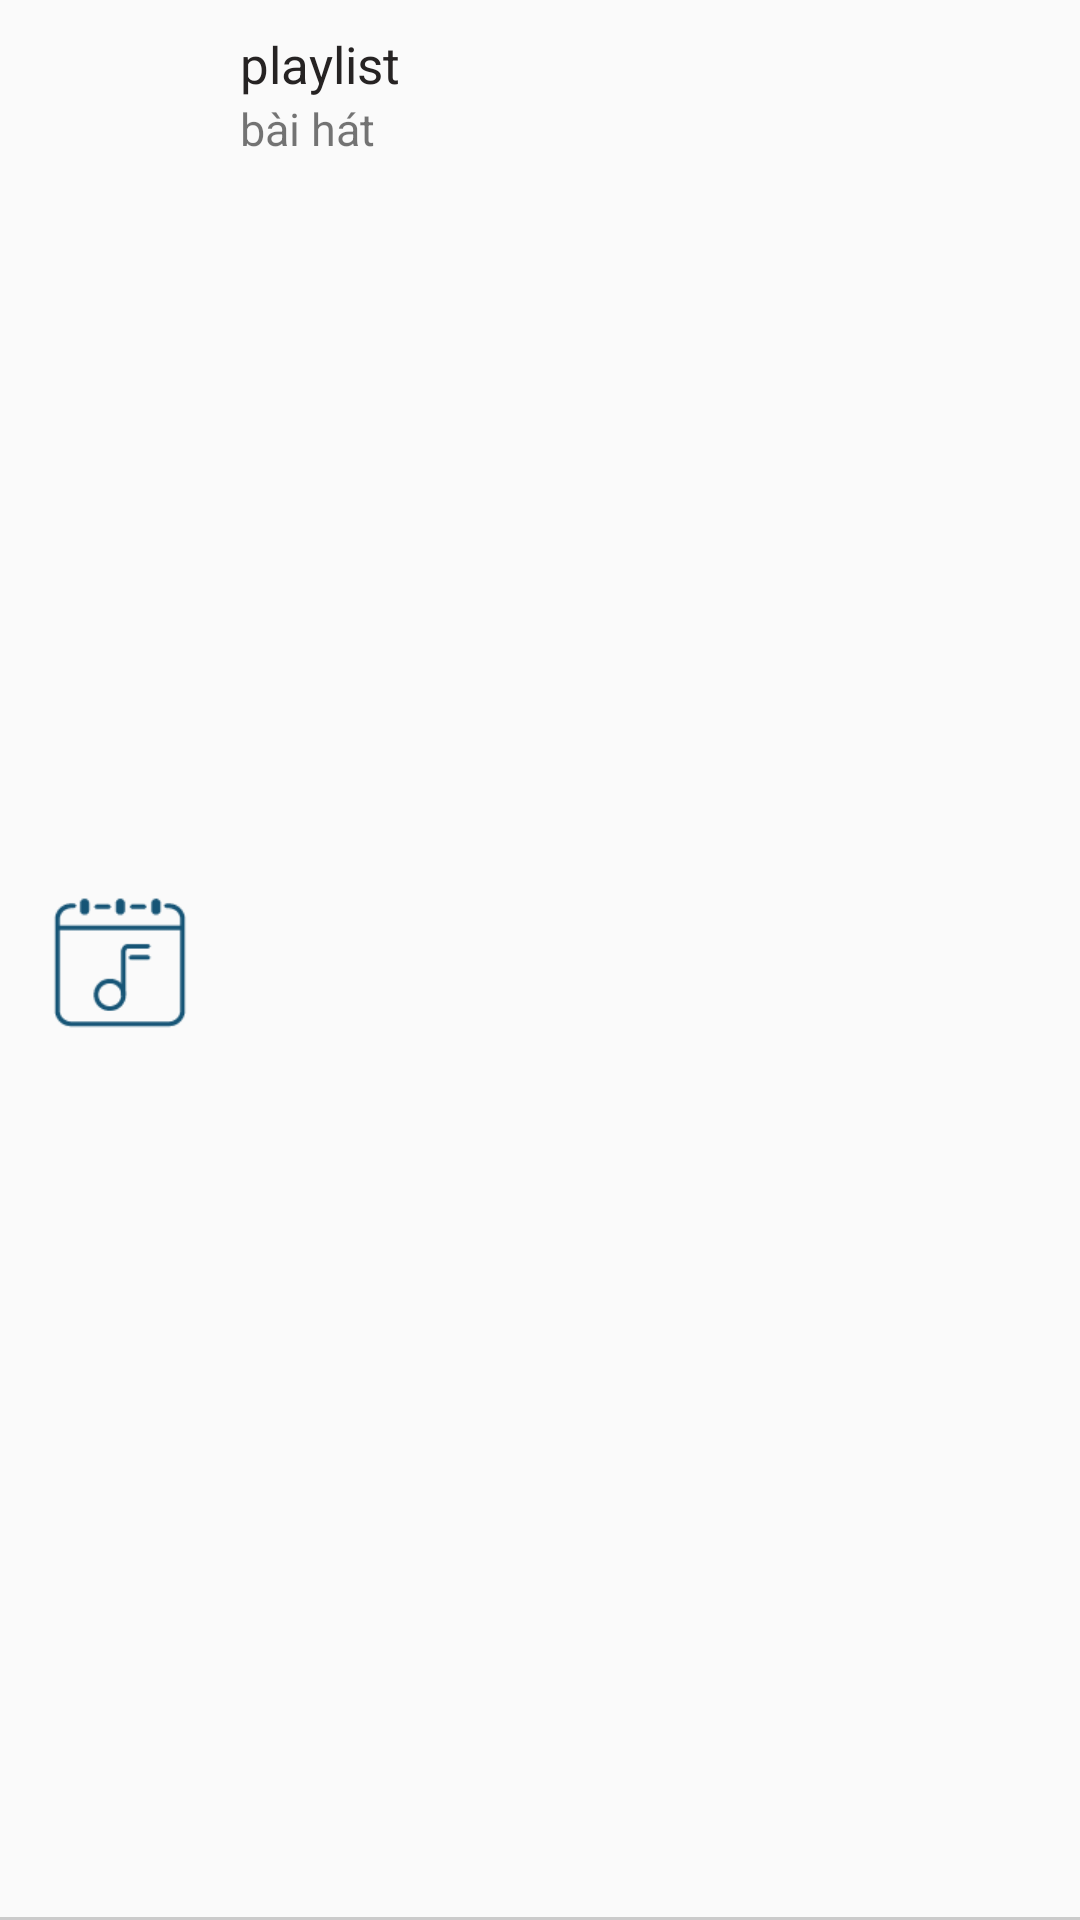

Icon click points for this 1080x1920 phone screenshot, format point (x, y):
song: point (120, 963)
